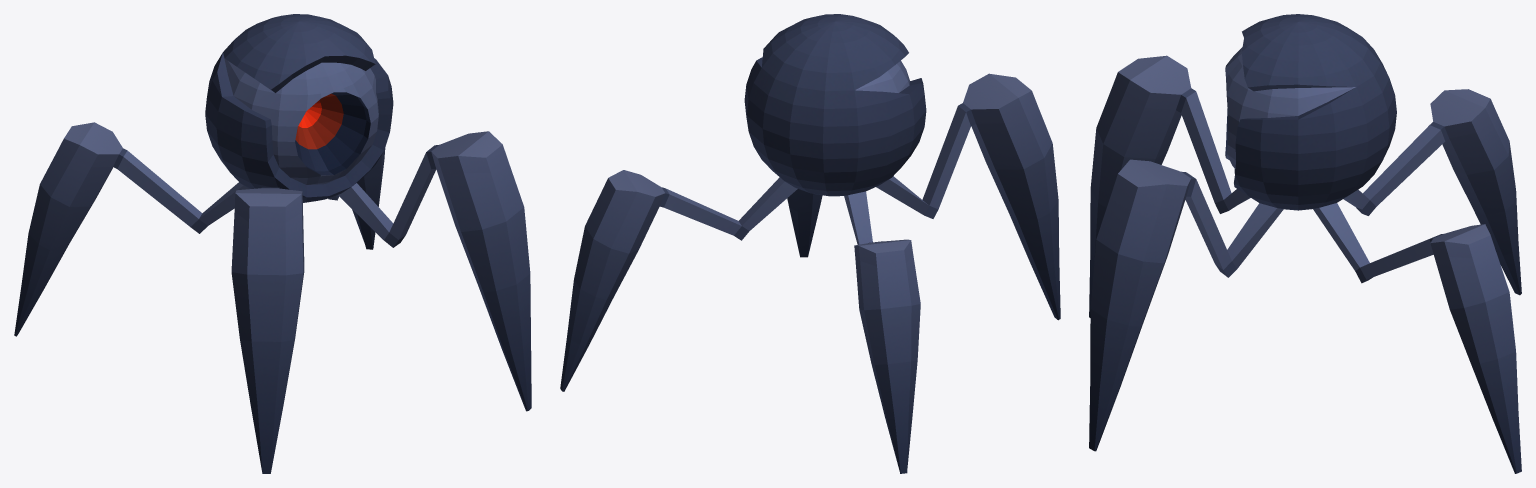
Rendered from smasher_model_enemy.fbx.
The picture shows the model from 3 angles, left to right: view 1: azimuth 30°, elevation 25°; view 2: azimuth 150°, elevation 25°; view 3: azimuth 270°, elevation 25°; orthographic projection. The views are drawn at different scales.
Parts seen in each view (by area): view 1: Sphere; view 2: Sphere; view 3: Sphere.
Part boxes in pixels (bbox=[...]): Sphere: bbox=[14, 14, 531, 473]; Sphere: bbox=[560, 14, 1060, 473]; Sphere: bbox=[1089, 14, 1521, 473].
Bounding box in the file's own units: 0.8452 × 0.7825 × 0.8486.
